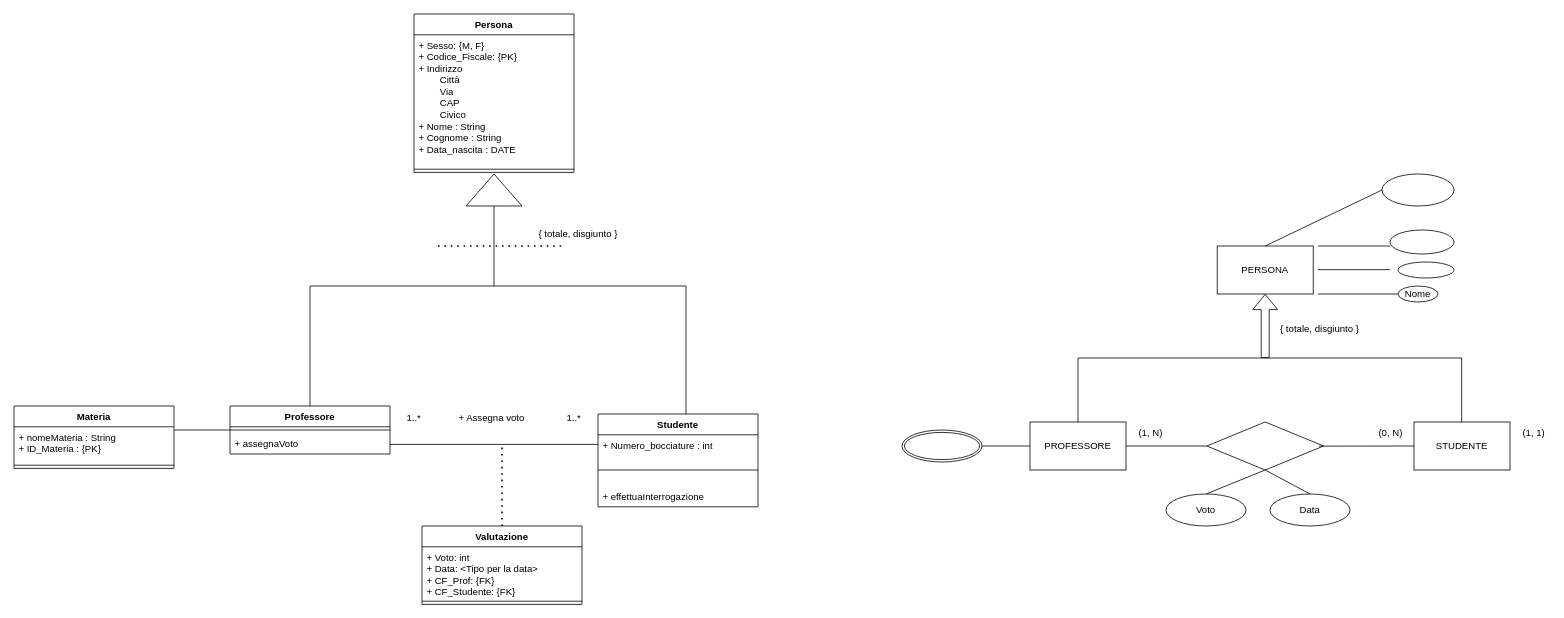
Image size: 1564x618. Some labels were removed from this diagram. Here are the shapes that lost their labels. From the top down, the centre of each, then its label:
At point 1417,189: "Codice fiscale".
At point 1421,241: "Data_nascita".
At point 1425,269: "Cognome".
At point 941,445: "Materie".
At point 1265,445: "ASSEGNA_VOTO".
